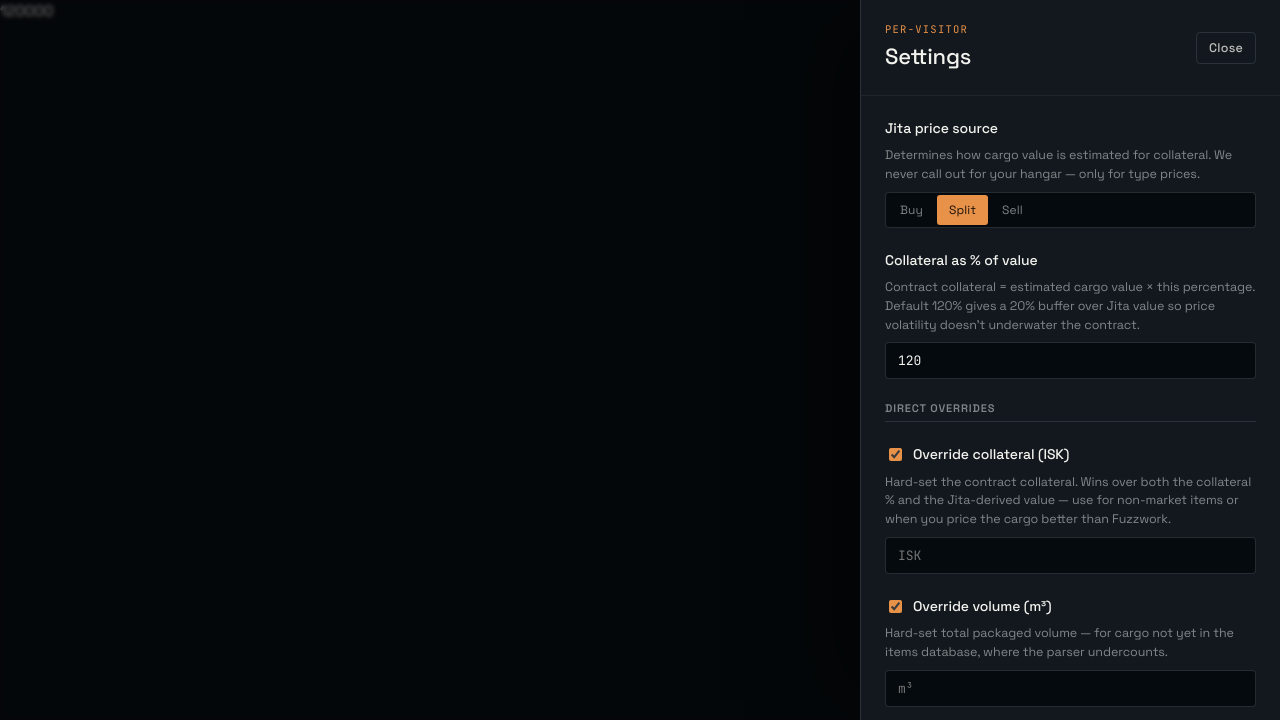
Test: SettingsDrawer — override shorthand inputs (#37) › commits shorthand 2b as 2_000_000_000 on blur and shows the normalized value
The width and height of the screenshot is (1280, 720).
Type "2b" into the field with placeholder "ISK".
click(1070, 555); type("2b")  # box [885, 537, 1256, 574]
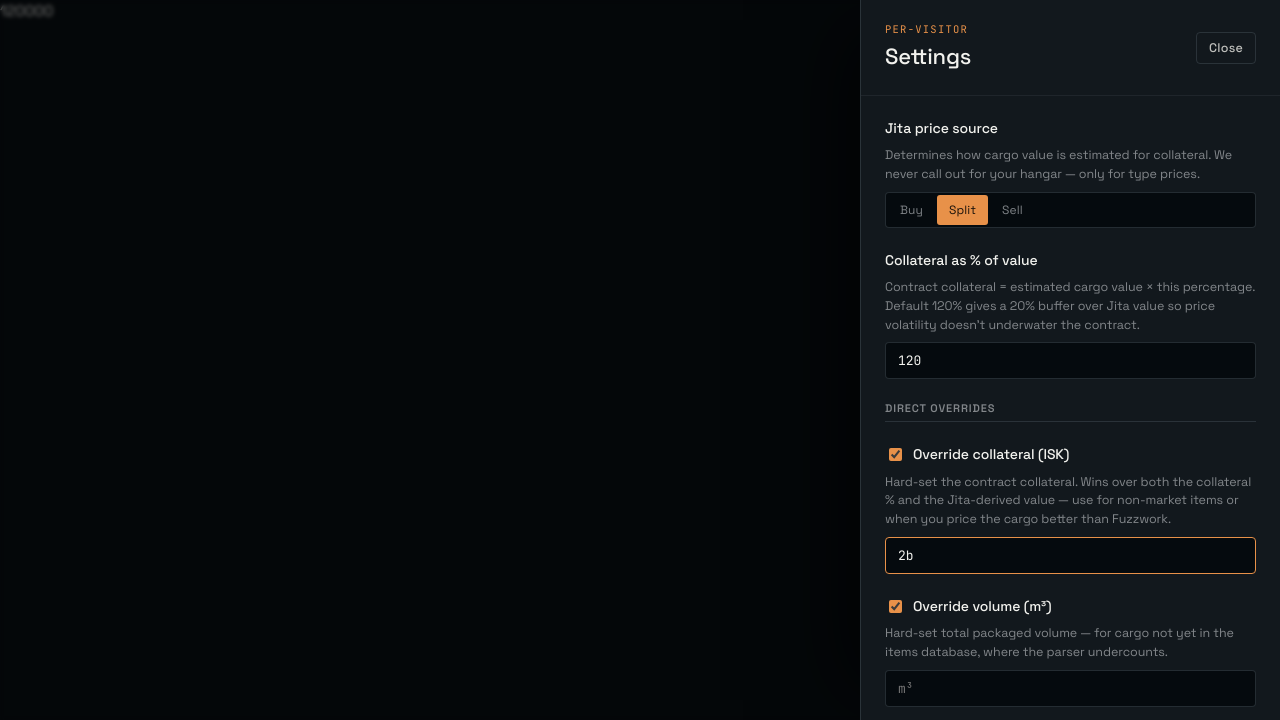
Press Tab
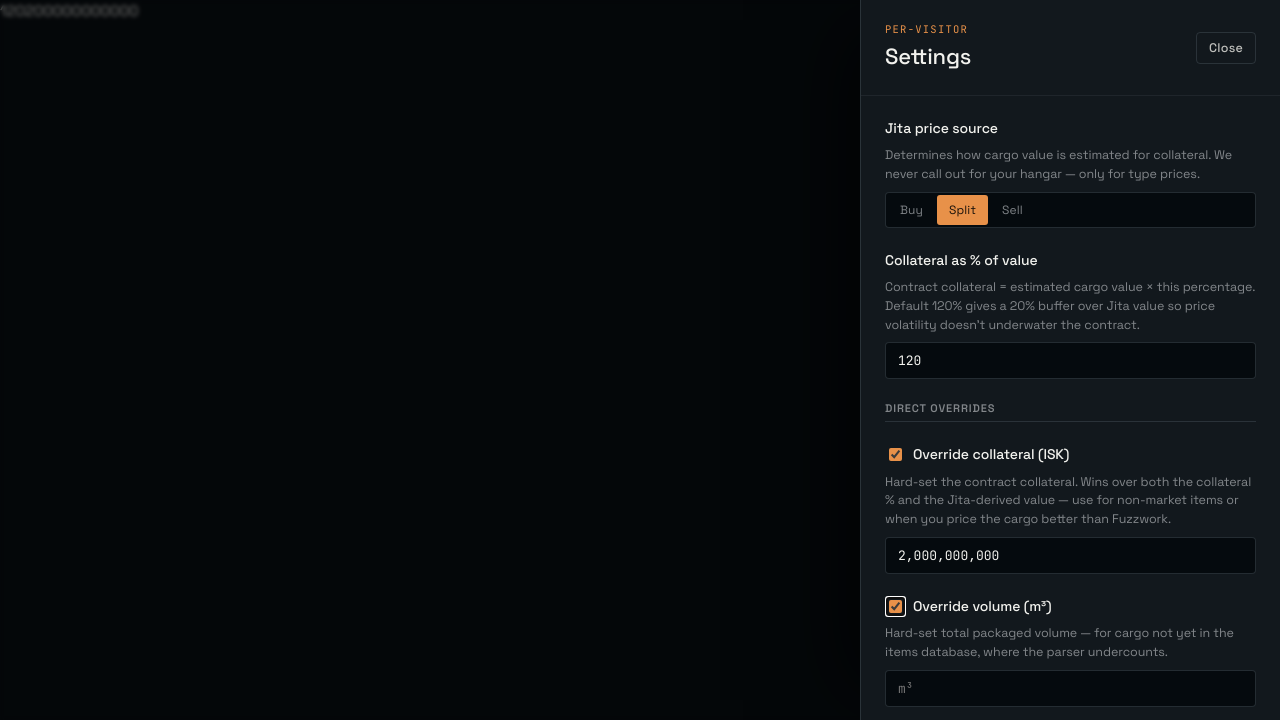
Expected: the text with test id "coll-value" reads "2000000000", [25, 1, 120, 20]
Expected: the field with placeholder "ISK" holds "2,000,000,000", [885, 537, 1256, 574]
